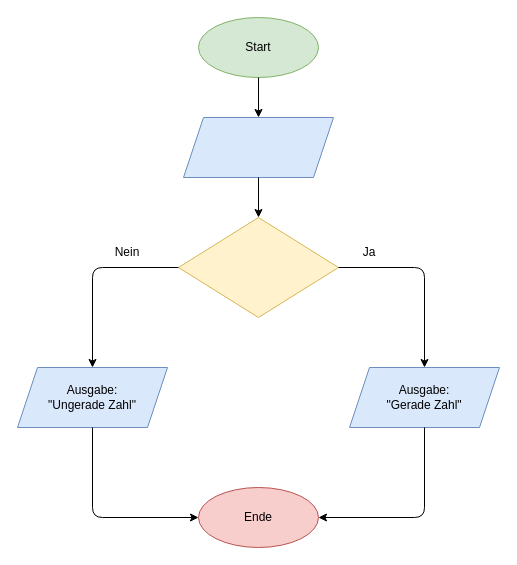
The diagram is 517 pixels wide and 565 high, and some of its shapes have lost their labels. Here are the shapes that lost their labels. From the top down, the centre of each, then its label:
point (258, 147): Zahl einlesen
point (258, 267): Zahl gerade?
